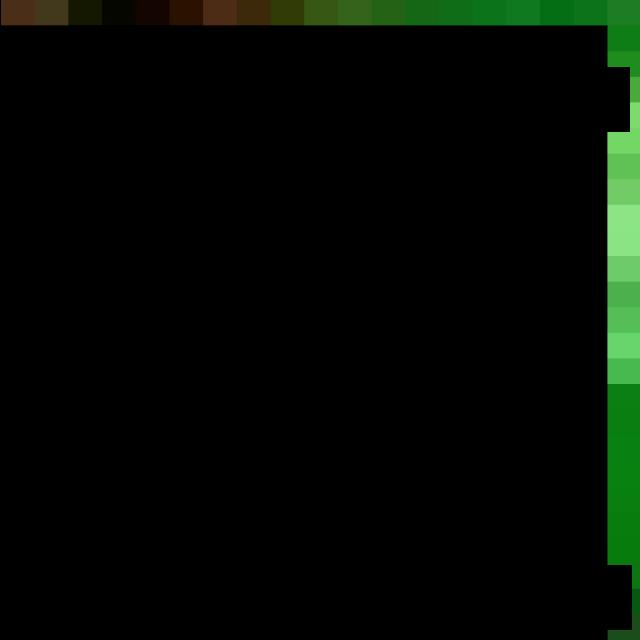nofire: (0, 25, 607, 640)
